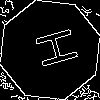H: (25, 25, 79, 73)
